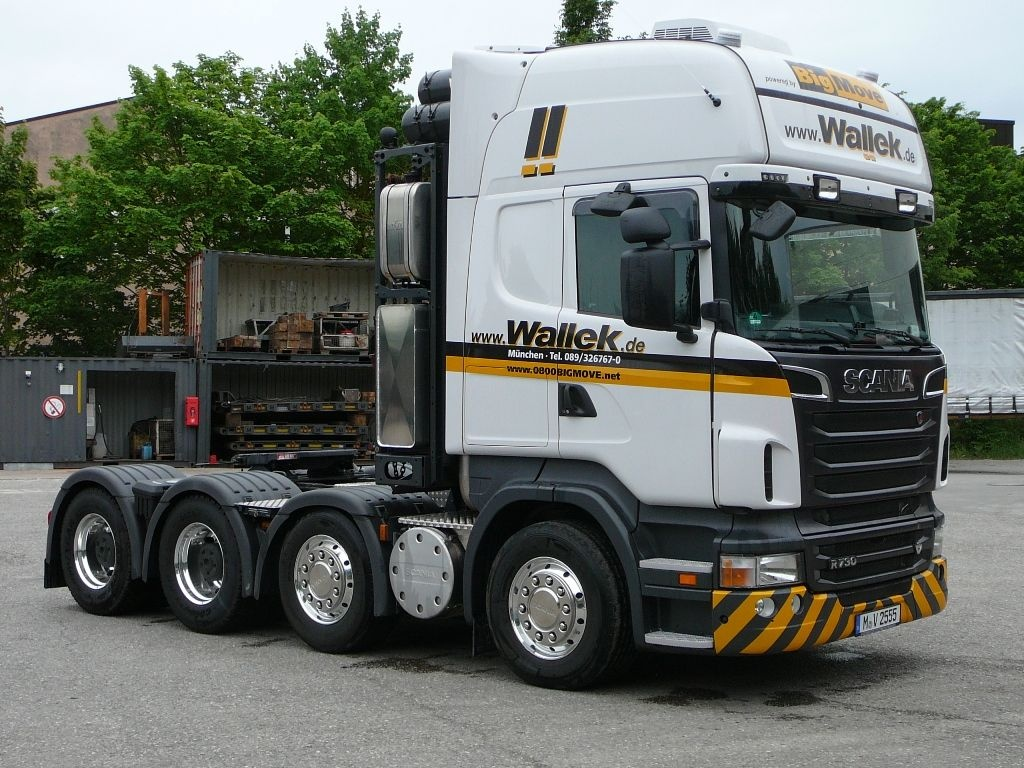heavy truck: (33, 36, 954, 688)
